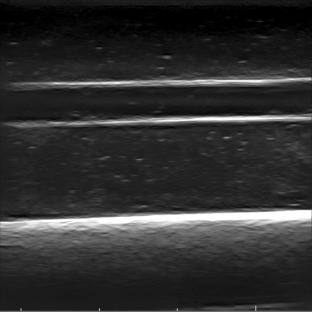vessel: (3, 77, 308, 126)
